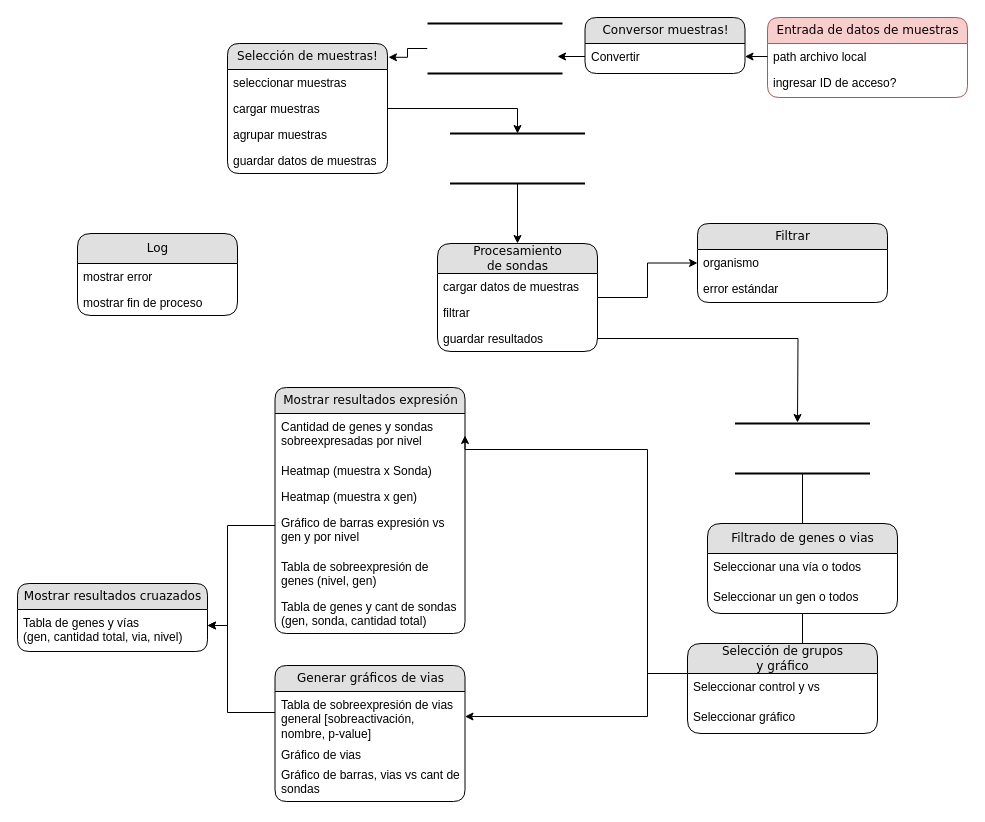
Some shapes in this 985 by 822 pixel diagram are drawn without their labels. The shapes that lost their labels are listed below. From the top down, each one's centre as x and y in pixels, then its label:
pixel 494 48: Muestras estandarizadas
pixel 517 158: Muestras a procesar
pixel 802 448: Datos mapeados
